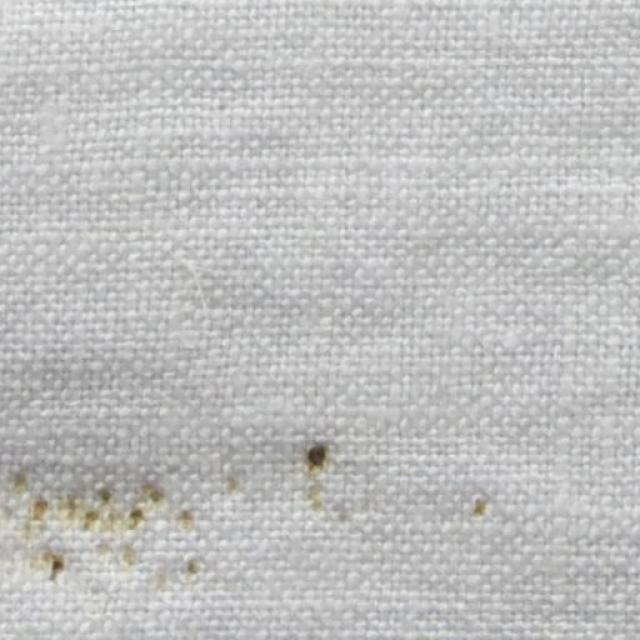Stain: (0, 448, 211, 584), (292, 435, 494, 526)
